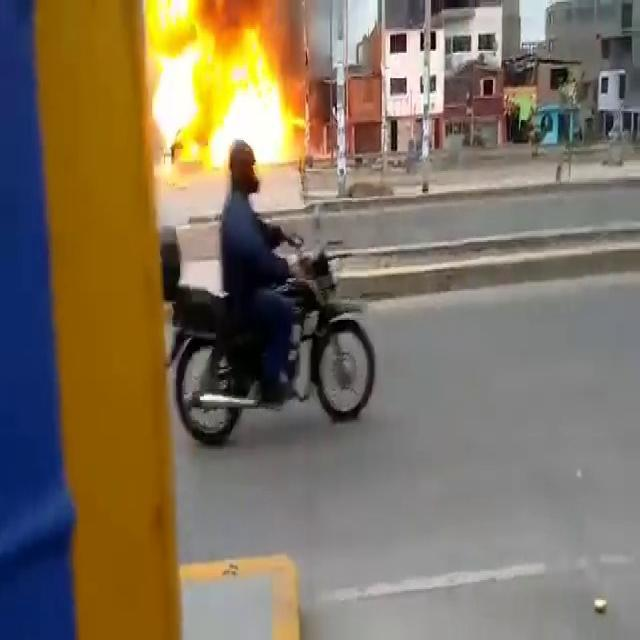Fire: (137, 0, 310, 182)
